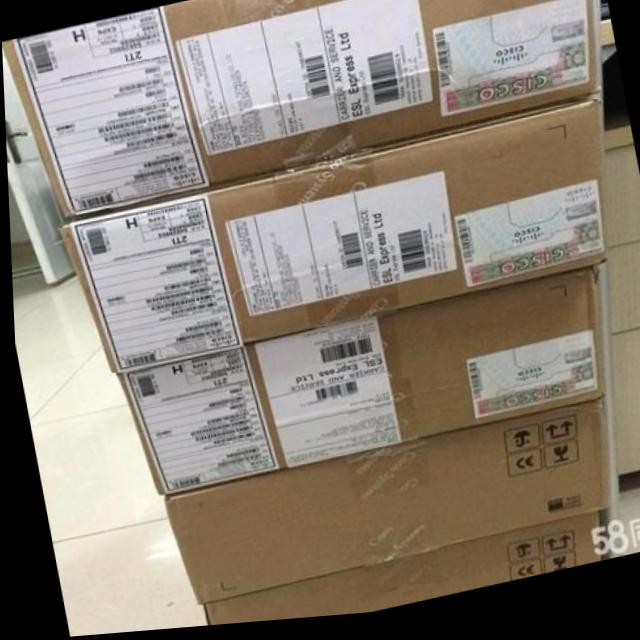box: (55, 112, 605, 374), (2, 0, 593, 215), (113, 274, 602, 497), (157, 413, 609, 610), (199, 521, 596, 628)
